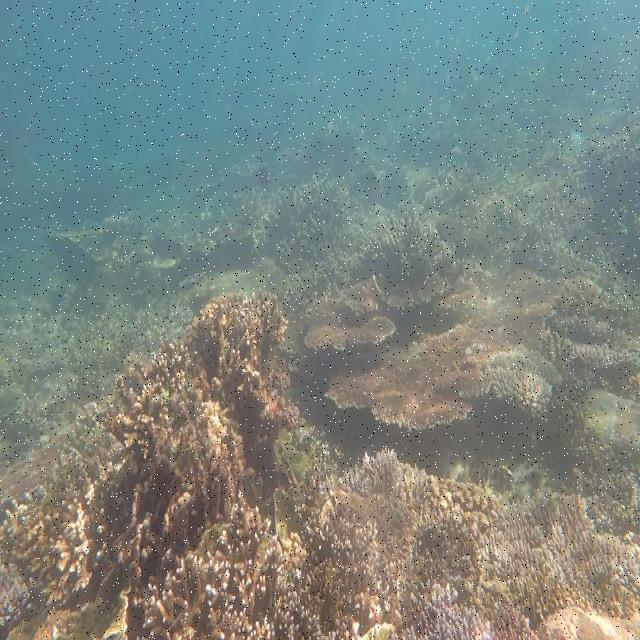aquatic plants: (232, 178, 466, 313)
reefs: (0, 290, 639, 639), (326, 269, 565, 431)
